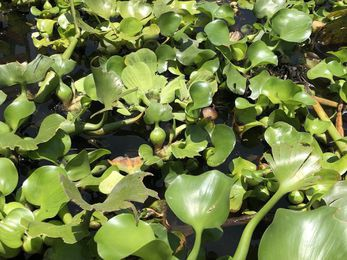water_hyacinth: (0, 0, 347, 260)
